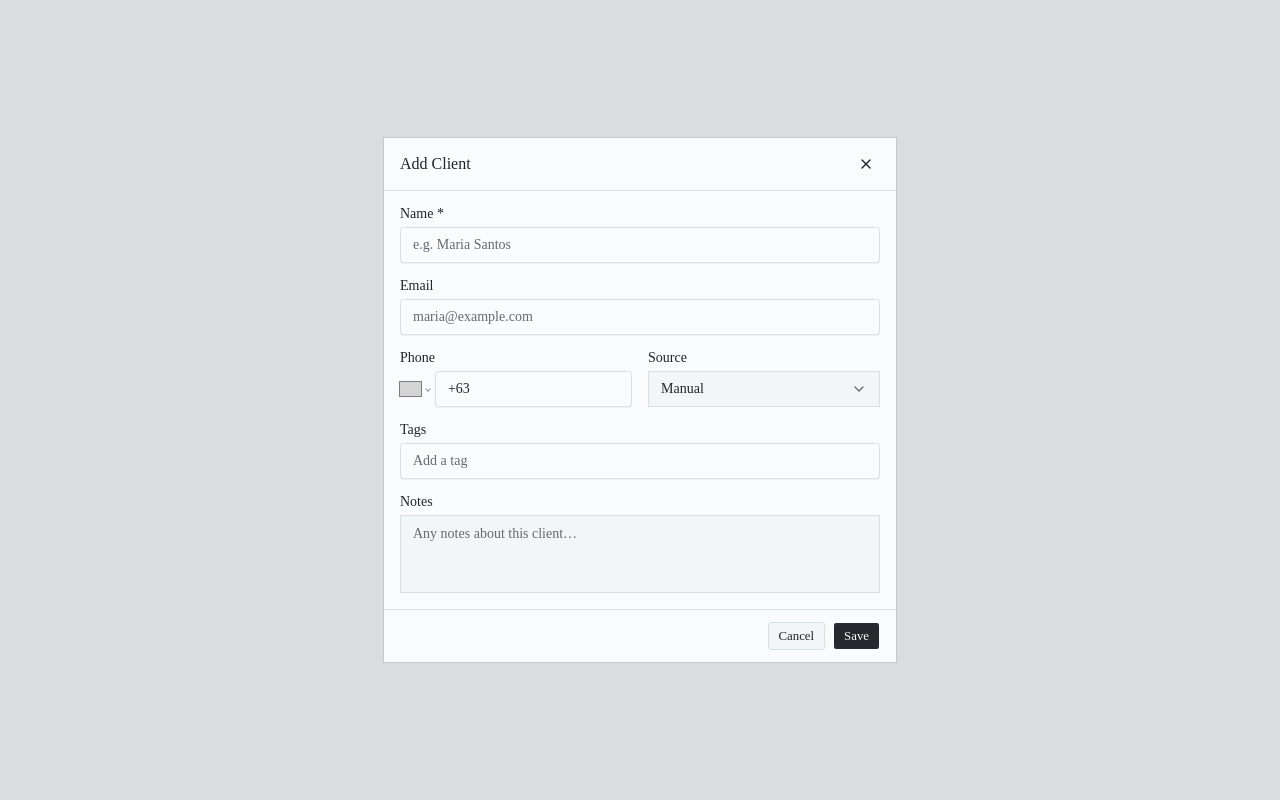
it: ClientFormModal › shows inline error on action failure
Type "Test Client" into the field with placeholder "e.g. Maria Santos".
click(640, 245); type("Test Client")  # box [400, 227, 880, 263]
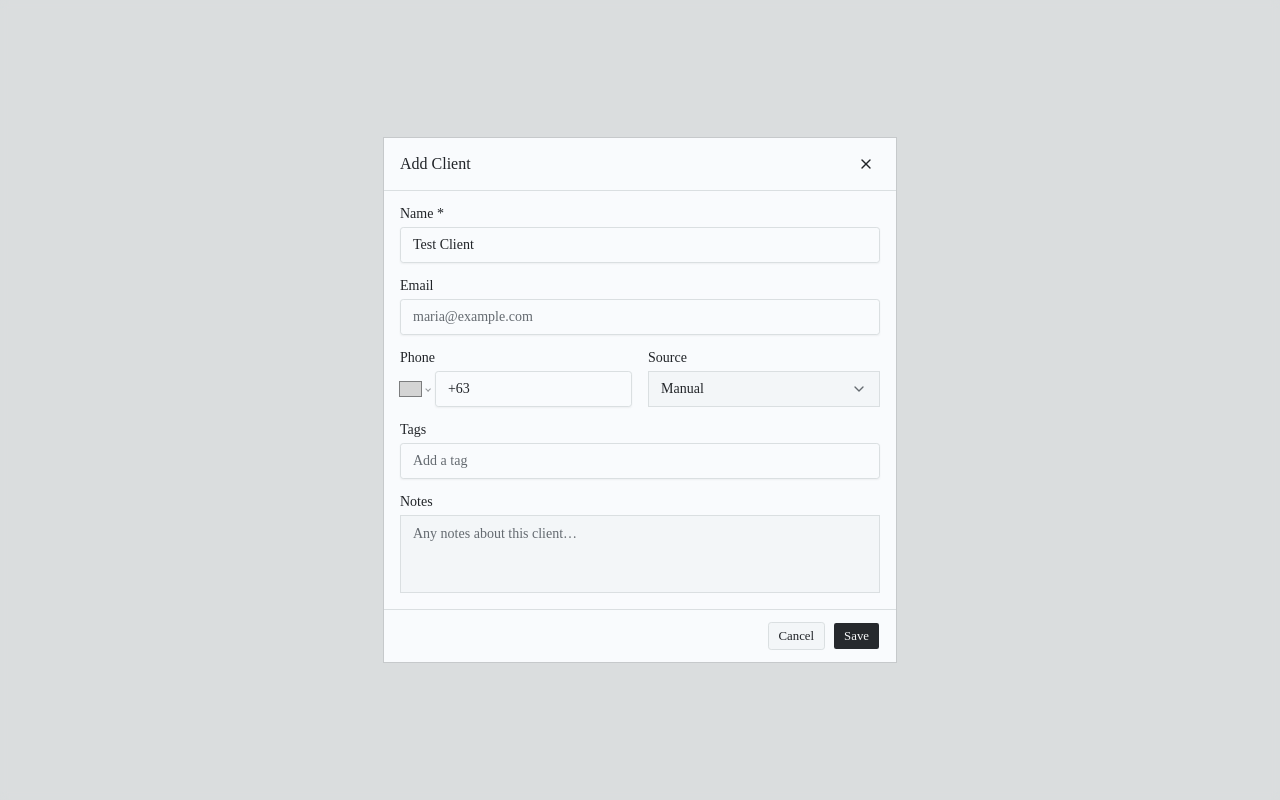
Click the button "Save".
click(857, 636)  # box [833, 622, 880, 650]
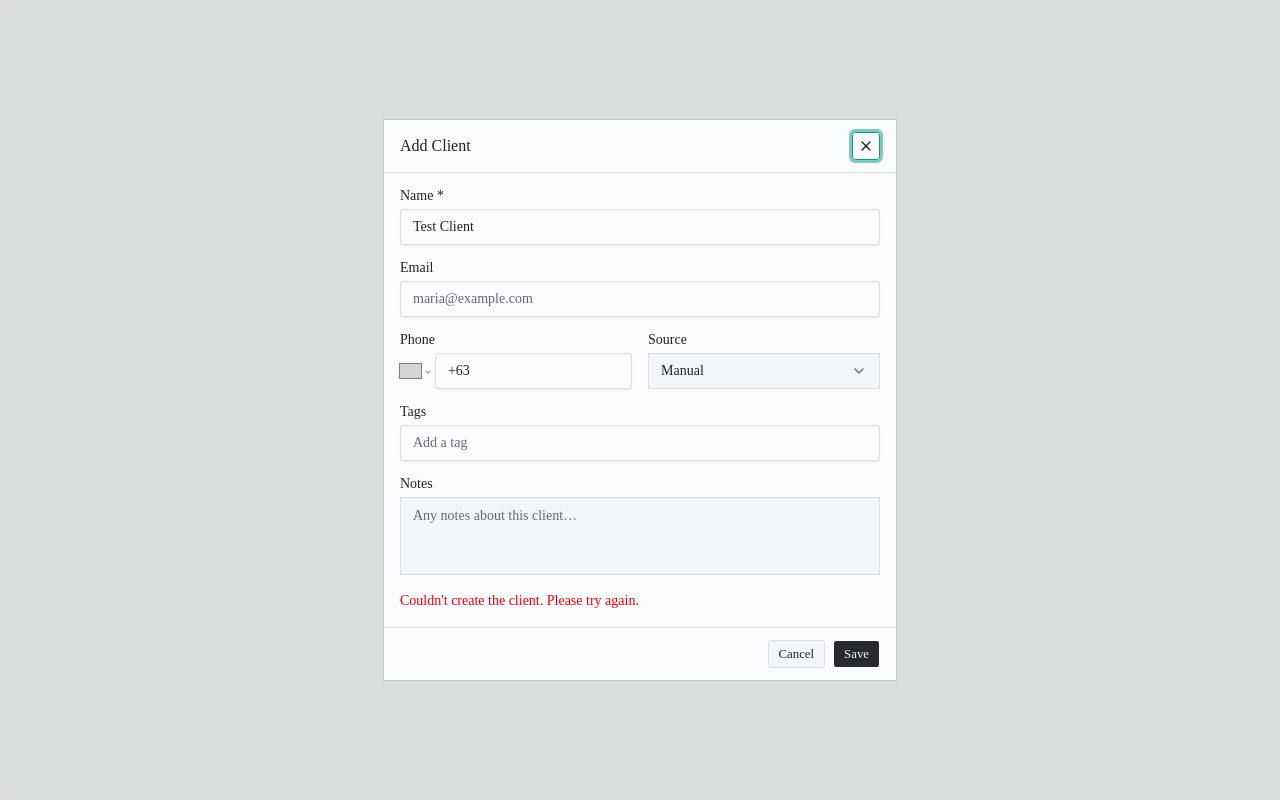
Check: the text "Couldn't create the client. Please try again." is shown, box [400, 593, 639, 608]
